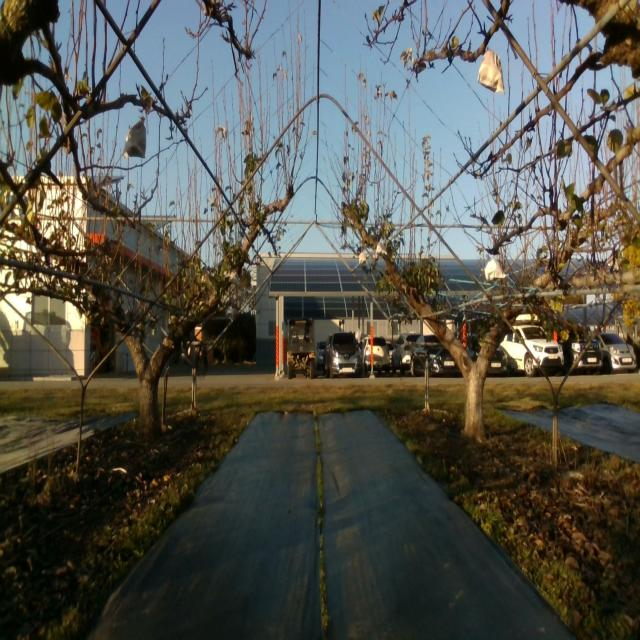pearbags: (478, 46, 506, 94), (123, 114, 146, 160), (484, 255, 506, 282)
